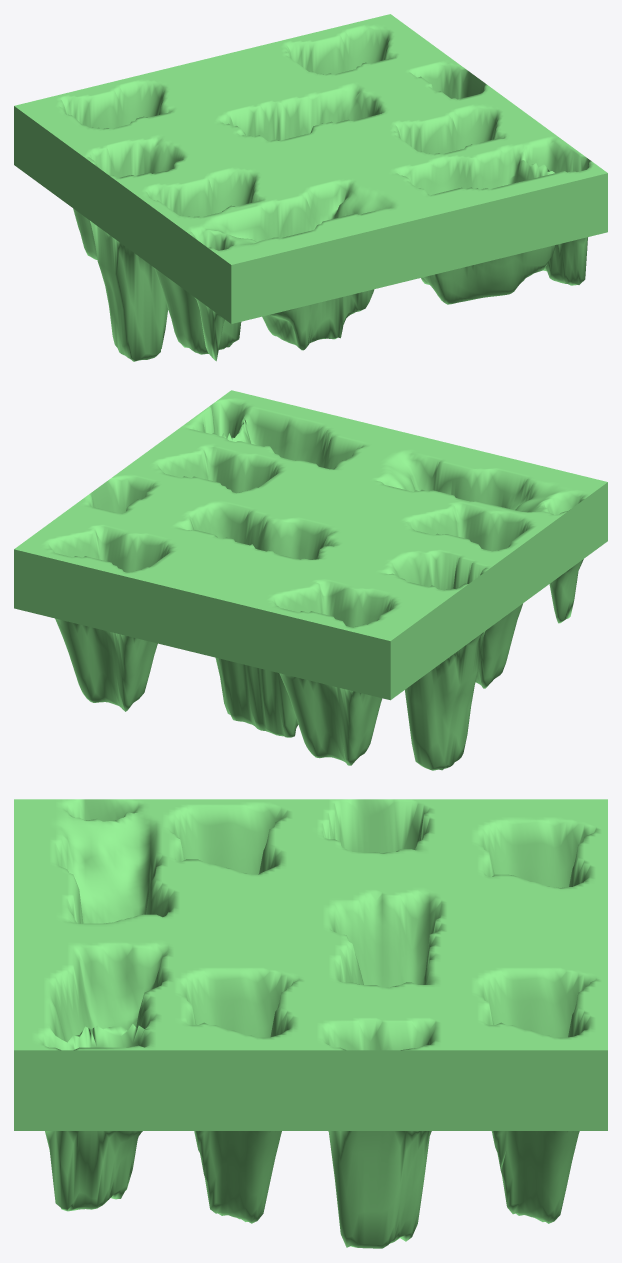
File: map2.dae
3 views of the same model, one above another, from view 1: azimuth 30°, elevation 25°; view 2: azimuth 150°, elevation 25°; view 3: azimuth 270°, elevation 25° (orthographic). The views are drawn at different scales.
Visible parts, largest first — view 1: group_0; view 2: group_0; view 3: group_0.
Boxes of the visible parts, x1,y1,x2,y2 form: group_0: (14, 14, 607, 361); group_0: (14, 390, 607, 770); group_0: (14, 799, 607, 1248).
Bounding box in the file's own units: 787 × 787 × 391.
